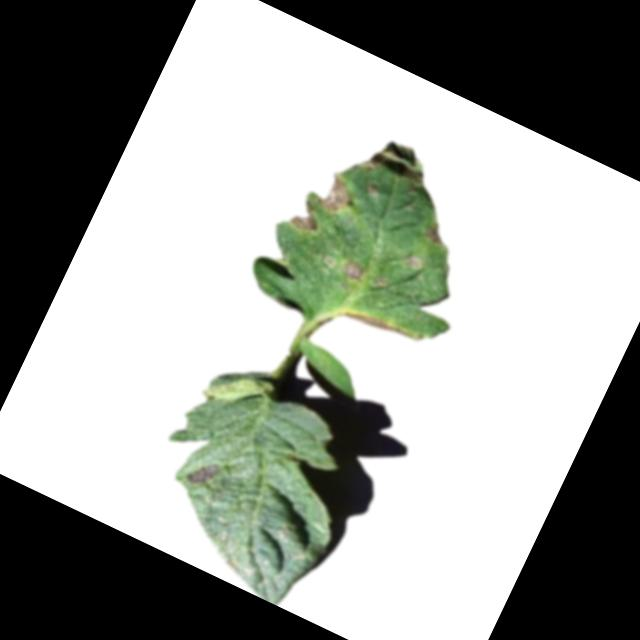Early_blight: (361, 131, 437, 194), (338, 302, 416, 350), (312, 170, 362, 220), (286, 197, 325, 238), (183, 455, 220, 492), (423, 220, 450, 248), (340, 260, 367, 285)
